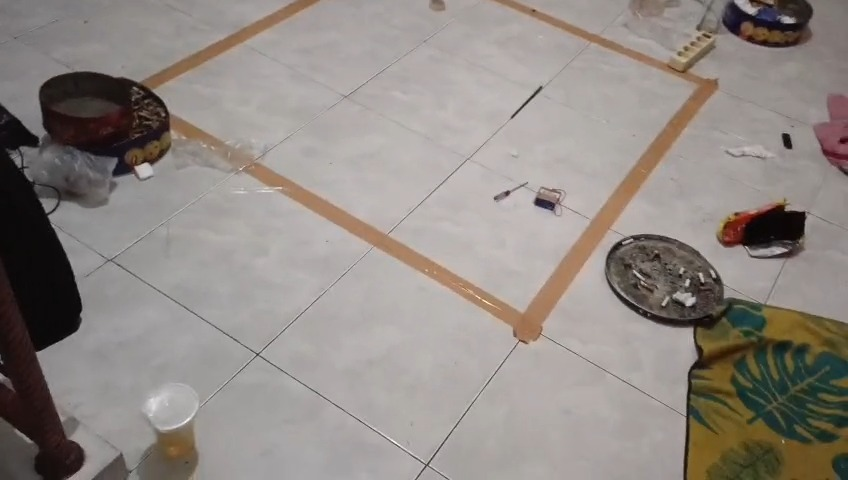floor marking: (172, 74, 717, 342), (142, 0, 319, 87), (498, 0, 662, 67)
